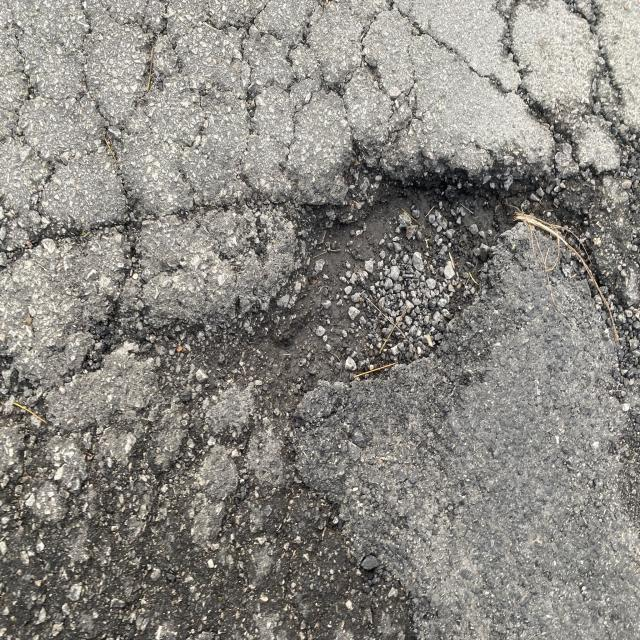pothole: (271, 115, 587, 376)
